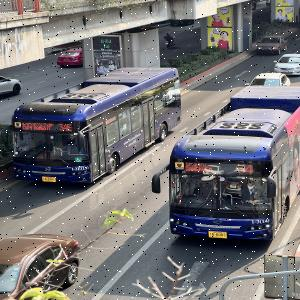Bus Line Number: (234, 162, 256, 175), (56, 121, 74, 133)
Bus Side Number: (250, 218, 271, 224), (69, 167, 89, 171)
Destination Sign: (20, 121, 54, 132), (184, 161, 215, 173)
TSB-Bus: (166, 84, 300, 242), (11, 67, 182, 186)
